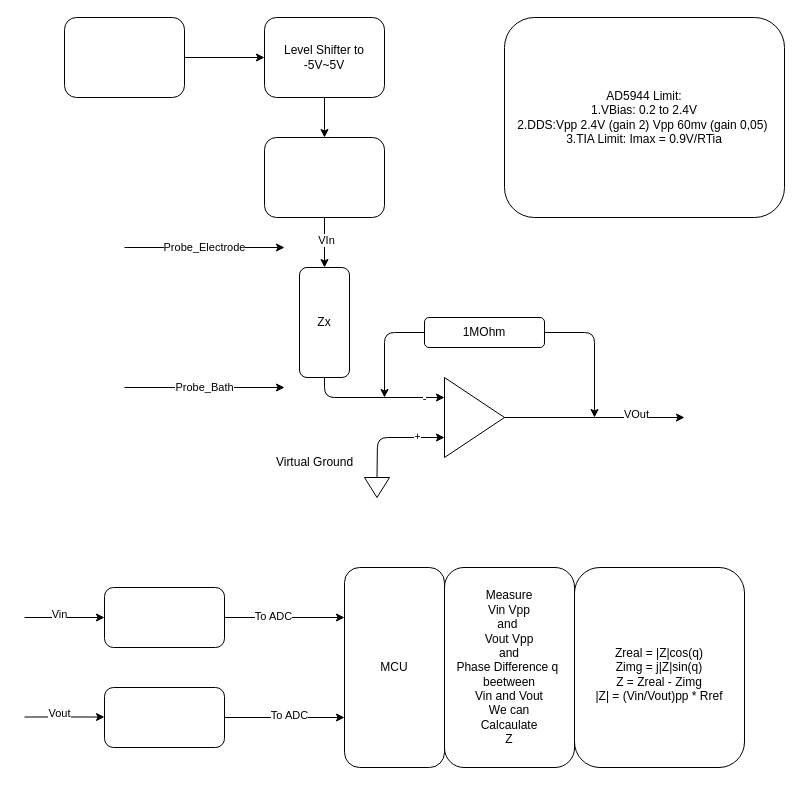
This 802x785 diagram has some shape labels left out. The shapes that lost their labels are listed below. From the top down, each one's box as (x1, y1, x2, y2) in pixels, then its label:
(64, 16, 184, 98): DDS 0-3.3v
(264, 136, 384, 218): Attenuation to 4mVpp
(104, 586, 224, 648): AMP1
(104, 686, 224, 748): AMP2
